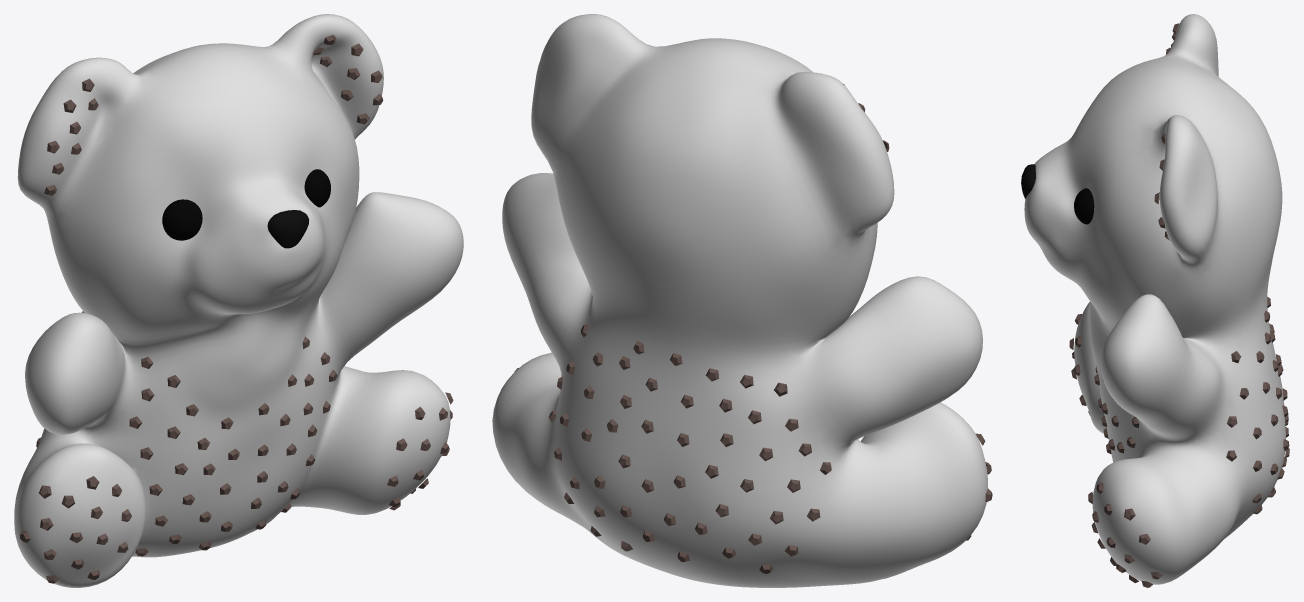
The model's file is bear.fbx.
The picture shows the model from 3 angles, left to right: view 1: azimuth 30°, elevation 25°; view 2: azimuth 150°, elevation 25°; view 3: azimuth 270°, elevation 25°; orthographic projection. The views are drawn at different scales.
Parts seen in each view (by area): view 1: bear_body_object, bear_beads_object, bear_eyes_object, bear_nose_object; view 2: bear_body_object, bear_beads_object; view 3: bear_body_object, bear_beads_object, bear_eyes_object, bear_nose_object.
Boxes of the visible parts, box(x1,y1,x2,y2) form: bear_body_object: box(14, 14, 463, 587); bear_beads_object: box(20, 35, 453, 583); bear_eyes_object: box(162, 169, 330, 240); bear_nose_object: box(267, 210, 308, 248); bear_body_object: box(492, 14, 987, 587); bear_beads_object: box(514, 84, 992, 573); bear_body_object: box(1024, 14, 1285, 584); bear_beads_object: box(1069, 23, 1289, 587); bear_eyes_object: box(1074, 188, 1094, 224); bear_nose_object: box(1021, 164, 1035, 198).
Size of the model in its own units: 14.22 by 14.98 by 8.09.
